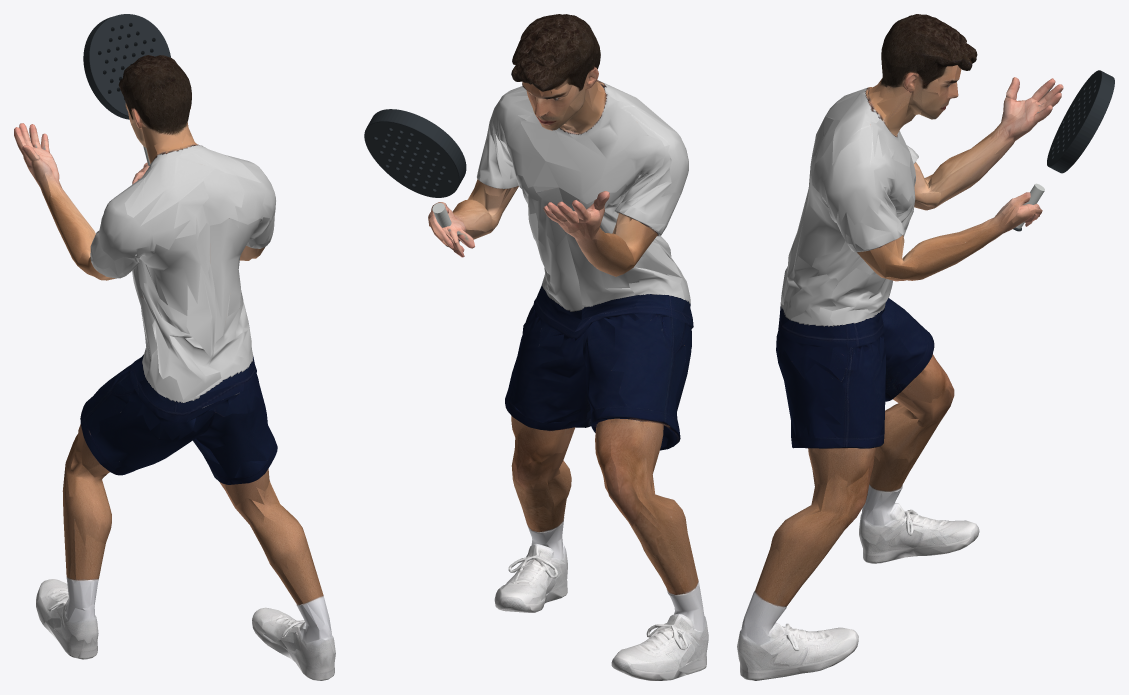
Rendered from player-white.glb.
The picture shows the model from 3 angles, left to right: view 1: azimuth 30°, elevation 25°; view 2: azimuth 150°, elevation 25°; view 3: azimuth 270°, elevation 25°; orthographic projection. The views are drawn at different scales.
Parts seen in each view (by area): view 1: Opponent left - Meshy generic athlete / body.001, Equipment v3 player 2 / Refined racket blade.001; view 2: Opponent left - Meshy generic athlete / body.001, Equipment v3 player 2 / Refined racket blade.001; view 3: Opponent left - Meshy generic athlete / body.001, Equipment v3 player 2 / Refined racket blade.001.
Part boxes in pixels (x1,y1,x2,y2): Opponent left - Meshy generic athlete / body.001: (14, 55, 335, 680); Equipment v3 player 2 / Refined racket blade.001: (83, 14, 170, 119); Opponent left - Meshy generic athlete / body.001: (428, 14, 708, 680); Equipment v3 player 2 / Refined racket blade.001: (364, 109, 466, 197); Opponent left - Meshy generic athlete / body.001: (737, 14, 1063, 680); Equipment v3 player 2 / Refined racket blade.001: (1047, 70, 1114, 173).
Bounding box in the file's own units: 0.6141 × 1.6 × 0.8933.
Materials: 3 (1 with a texture image).
